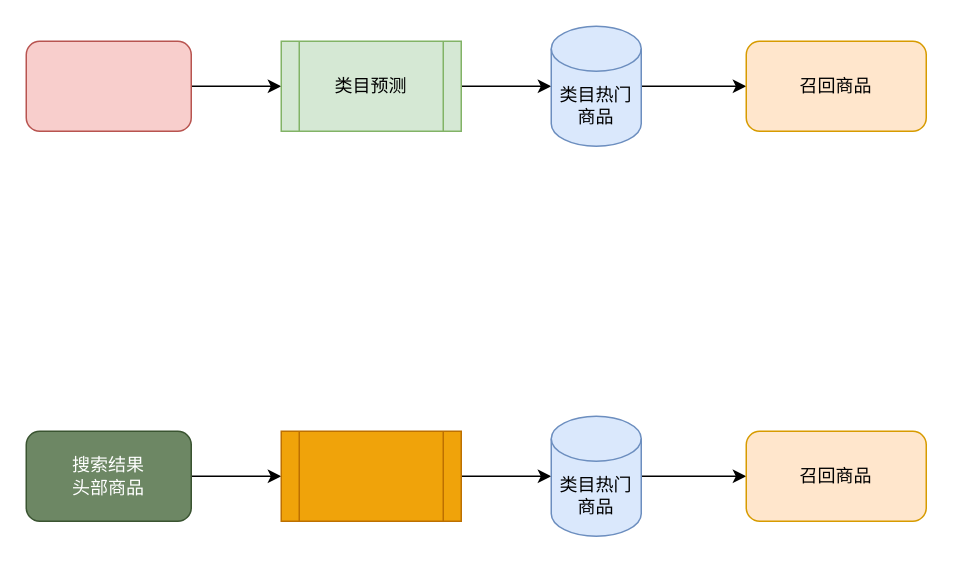
This 953x563 diagram has some shape labels left out. The shapes that lost their labels are listed below. From the top down, each one's box as (x1, y1, x2, y2) in pixels, then its label:
(25, 40, 191, 131): Query
(280, 430, 461, 521): 类目
